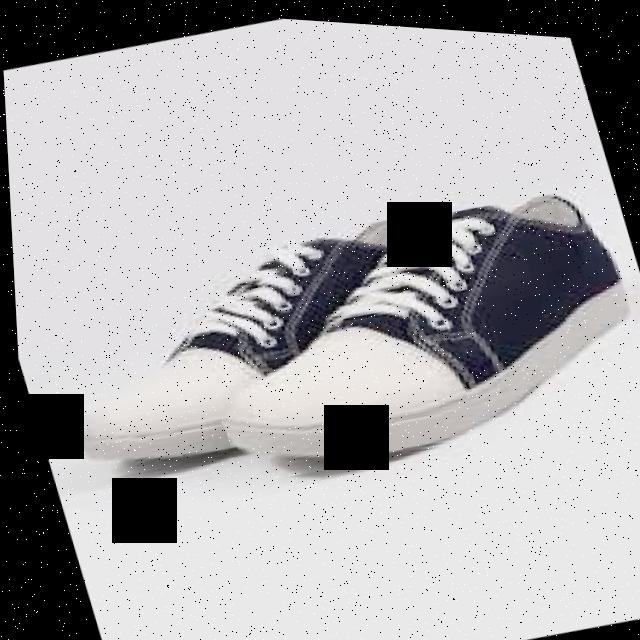shoe: (162, 154, 640, 506), (16, 188, 472, 503)
